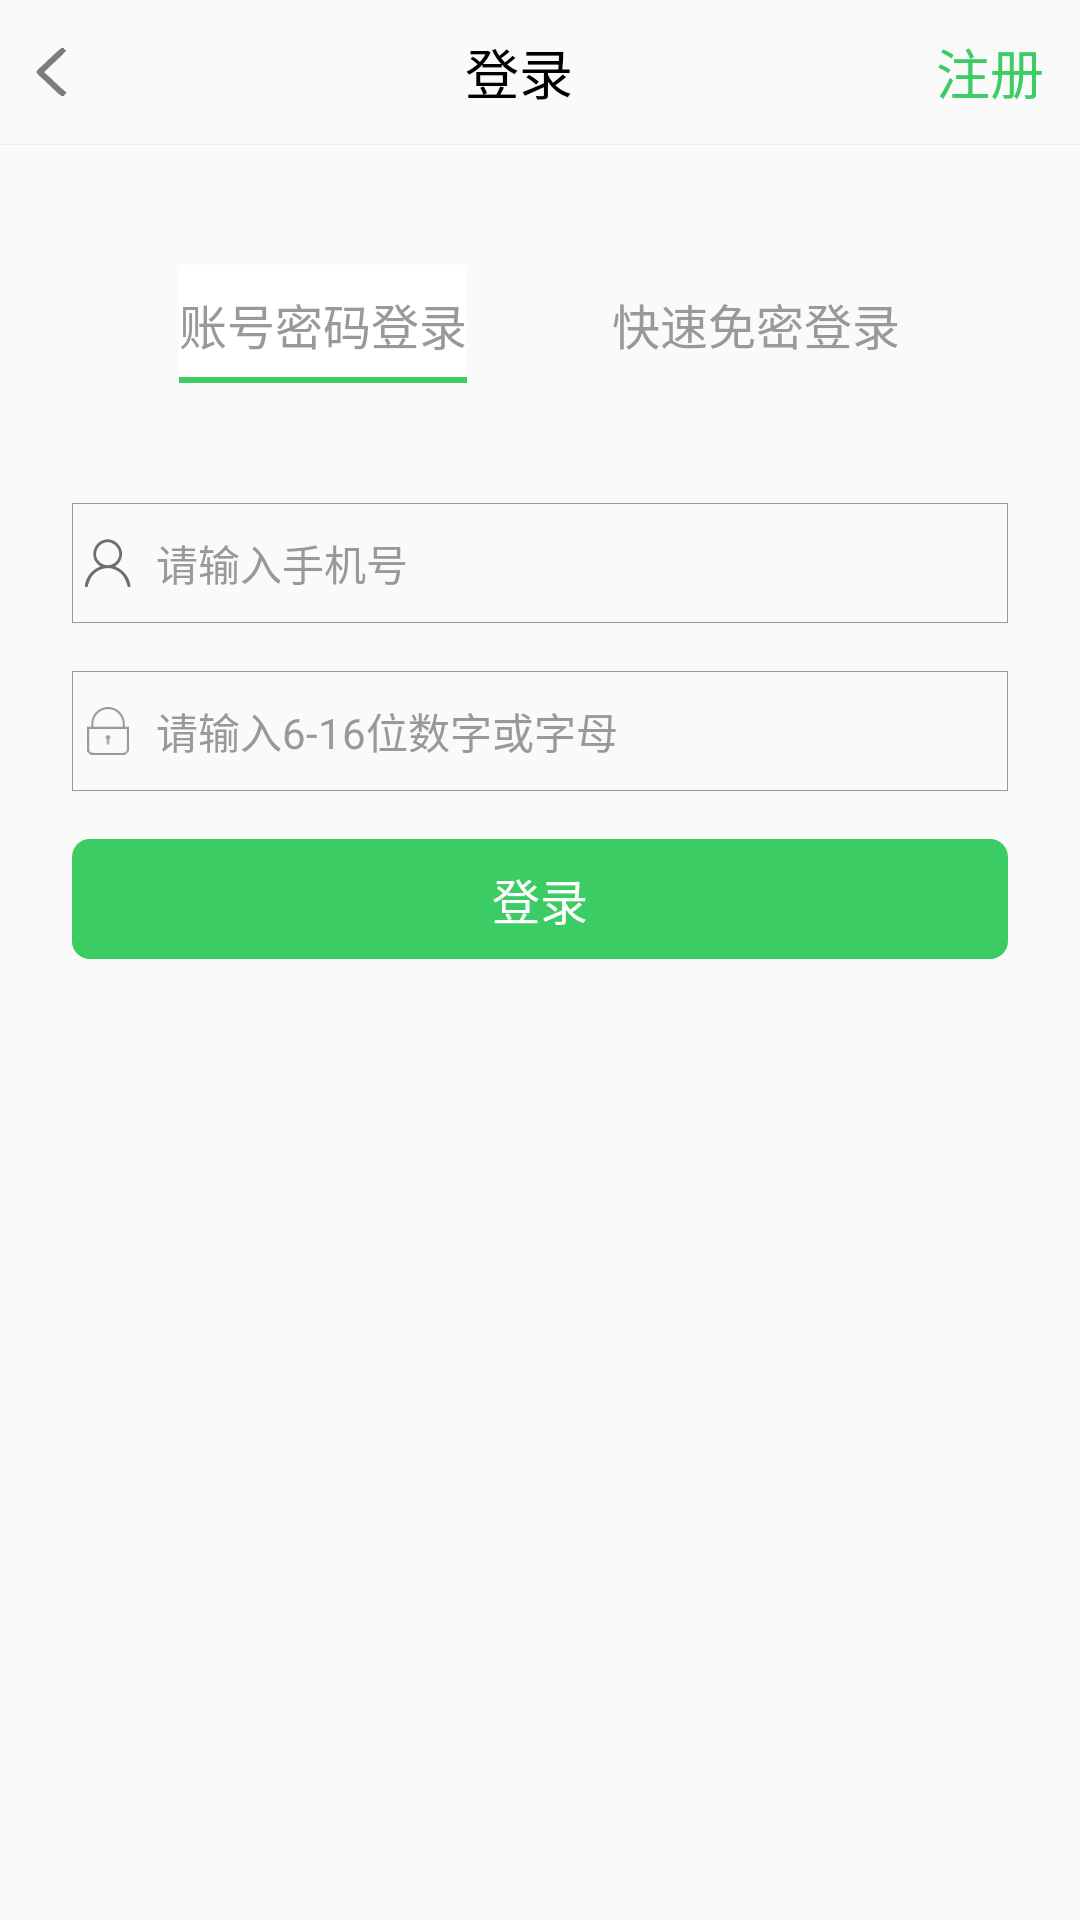

Locate icon controls on the screen. Image size 1080px x 1920px, boxes as (x1, y1, x2, y2).
back: (36, 48, 66, 96)
login account: (85, 539, 131, 587)
login pwd: (87, 707, 129, 755)
